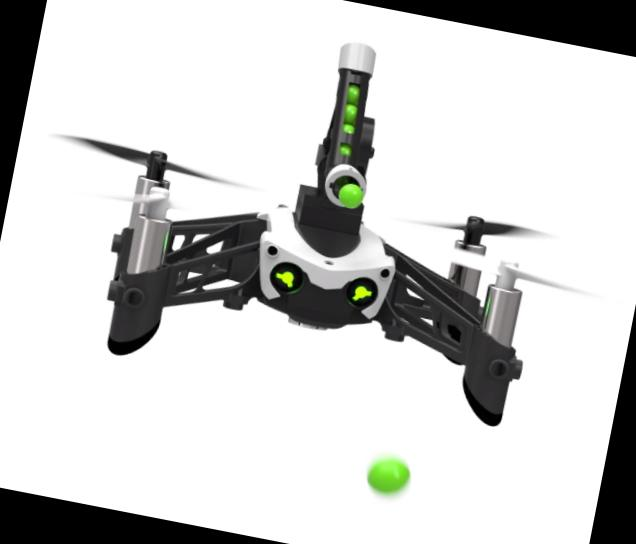drone: (8, 109, 598, 434)
